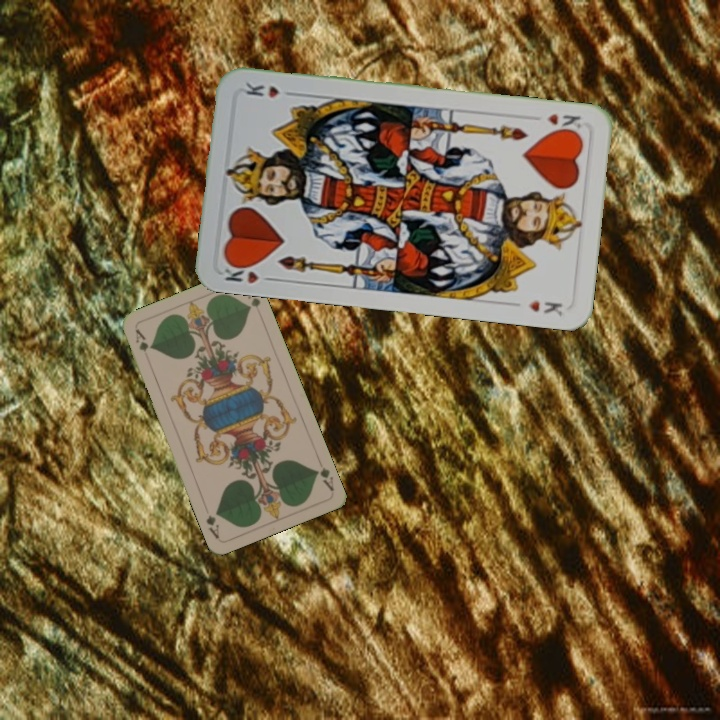GA: (131, 325, 153, 364), (310, 463, 337, 494)
HK: (219, 257, 278, 286), (543, 109, 584, 131)
